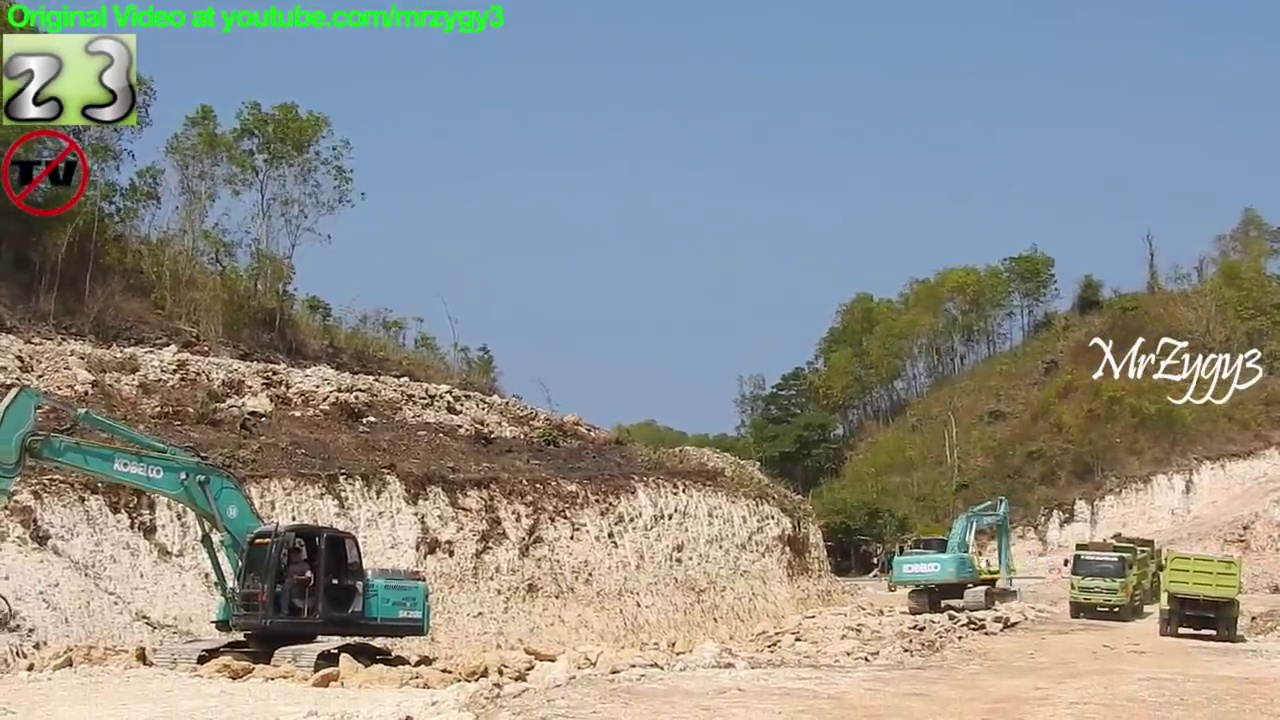excavator: (1, 382, 437, 682), (882, 493, 1027, 620)
truck: (1074, 530, 1168, 621), (1160, 548, 1247, 643), (1062, 537, 1151, 628)
